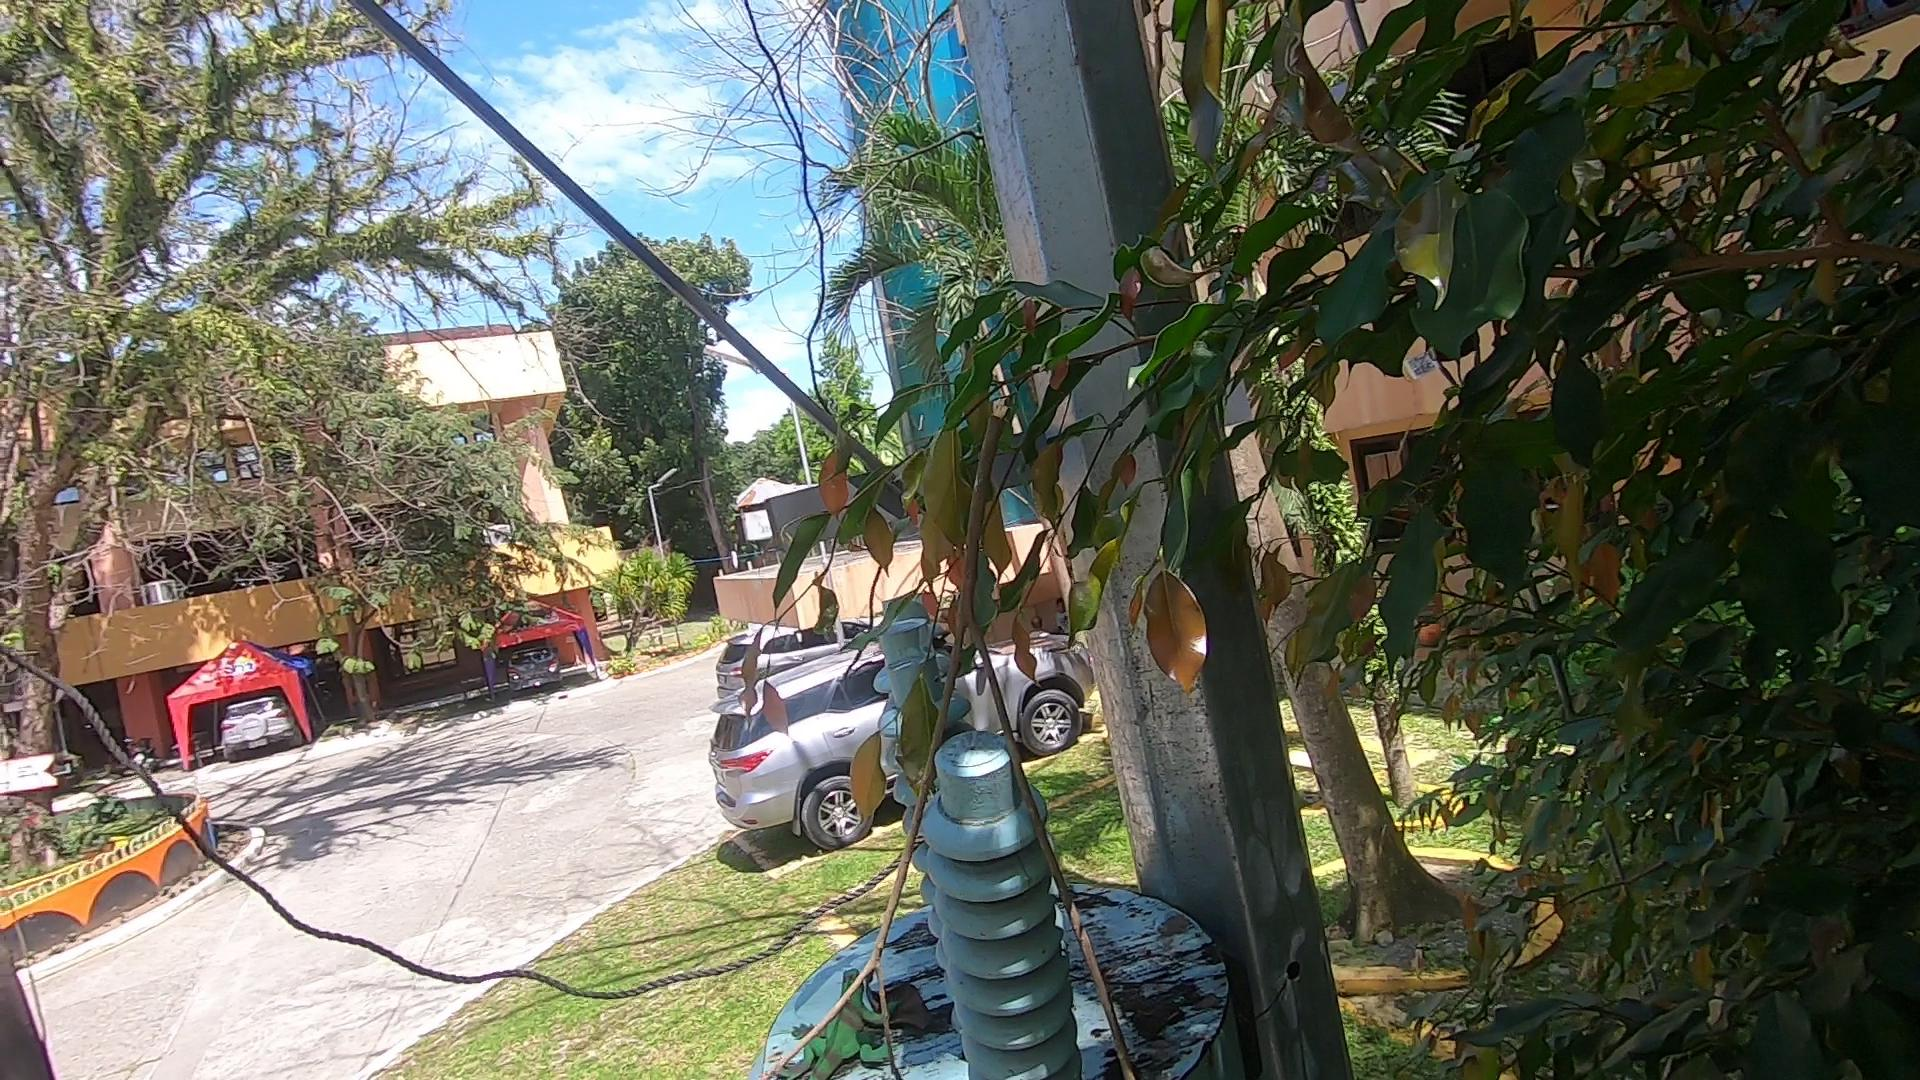leaf: (862, 957, 953, 1042)
tree branch: (744, 389, 1162, 1080)
